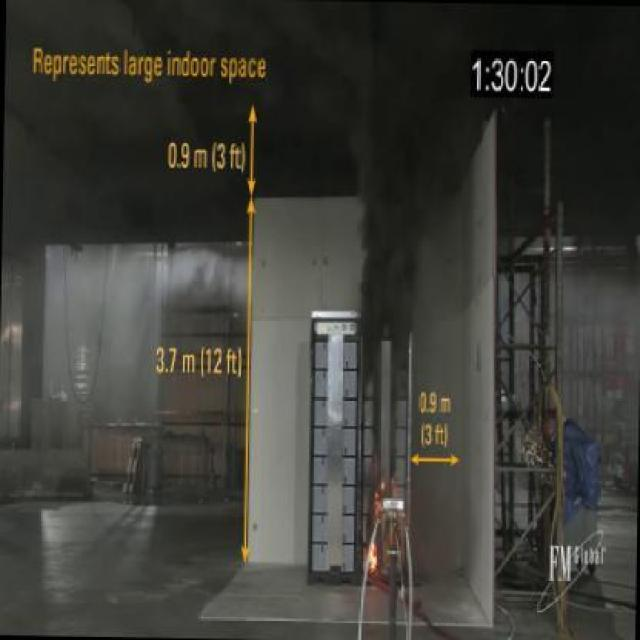fire: (340, 70, 454, 306)
smoke: (364, 534, 381, 580)
